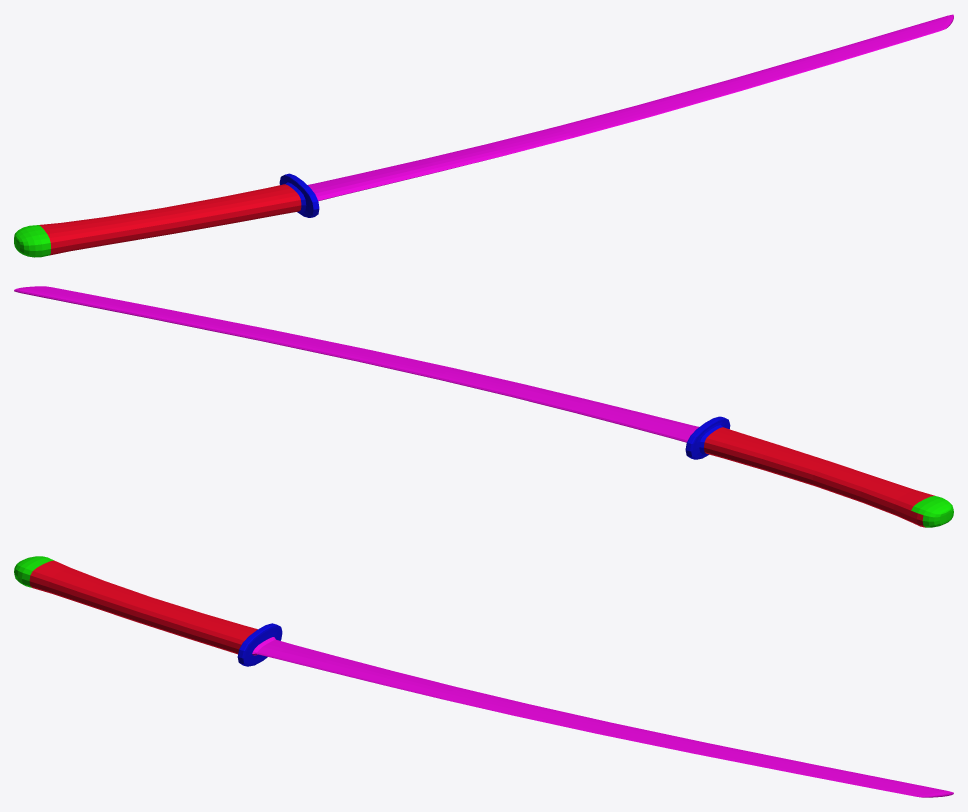
The model's file is kilic.LP.fbx.
The picture shows the model from 3 angles, top to bottom: view 1: azimuth 30°, elevation 25°; view 2: azimuth 150°, elevation 25°; view 3: azimuth 330°, elevation 25°; orthographic projection.
Visible parts, largest first — view 1: lp.kilic; view 2: lp.kilic; view 3: lp.kilic.
Boxes of the visible parts, left/top/right/bottom form: lp.kilic: left=14, top=14, right=953, bottom=257; lp.kilic: left=14, top=286, right=953, bottom=527; lp.kilic: left=14, top=556, right=953, bottom=797.
Bounding box in the file's own units: 17791 × 545 × 1624.
